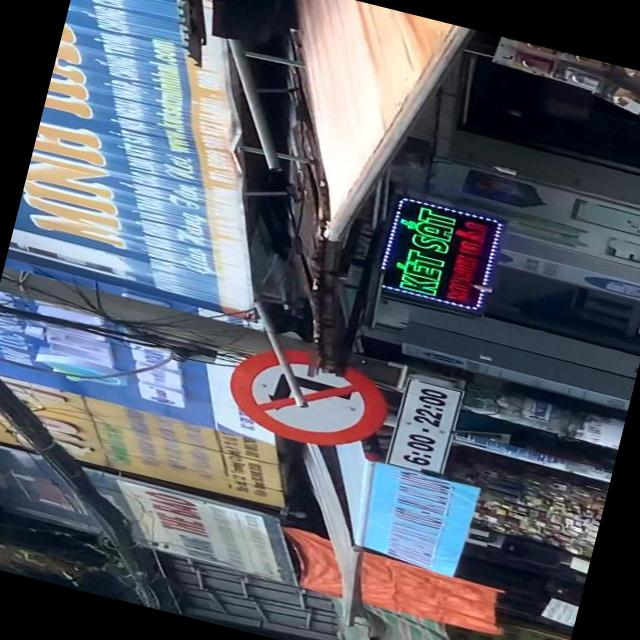P-123a: (218, 335, 396, 459)
